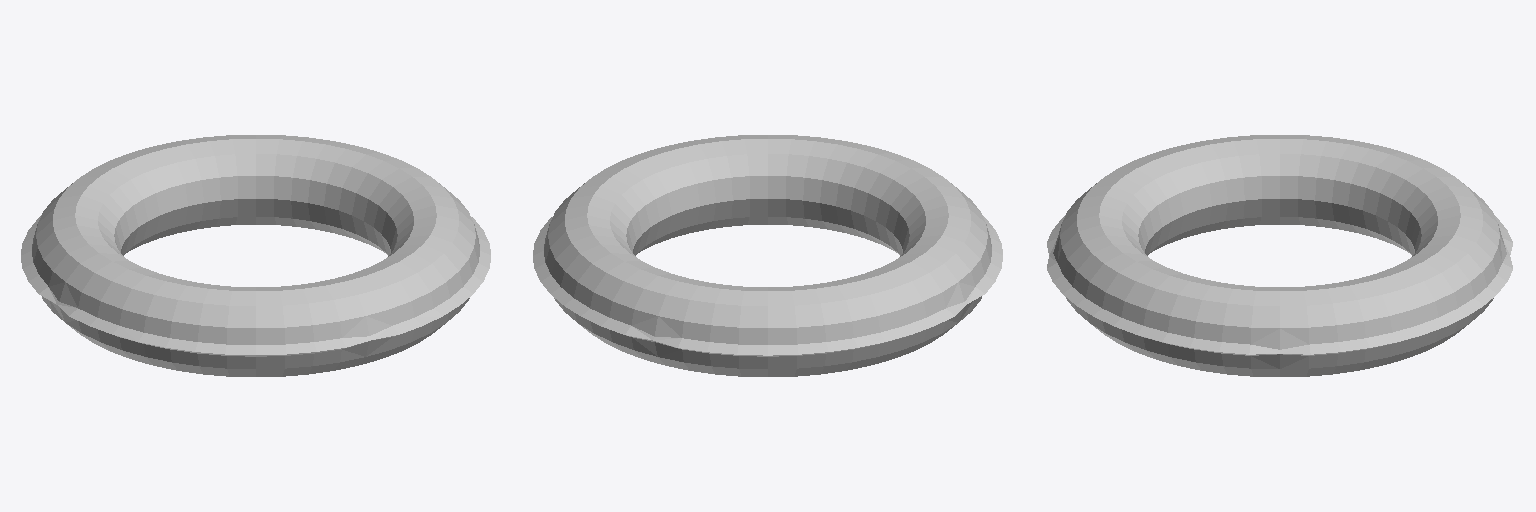
The model's file is boia.obj.
3 renders of one model, left to right at view 1: azimuth 30°, elevation 25°; view 2: azimuth 150°, elevation 25°; view 3: azimuth 270°, elevation 25°, orthographic.
Visible parts, largest first — view 1: Torus; view 2: Torus; view 3: Torus.
Part boxes in pixels (bbox=[...]): Torus: bbox=[21, 135, 490, 376]; Torus: bbox=[533, 135, 1002, 376]; Torus: bbox=[1047, 135, 1512, 376].
Bounding box in the file's own units: 2.58 × 0.5 × 2.58.